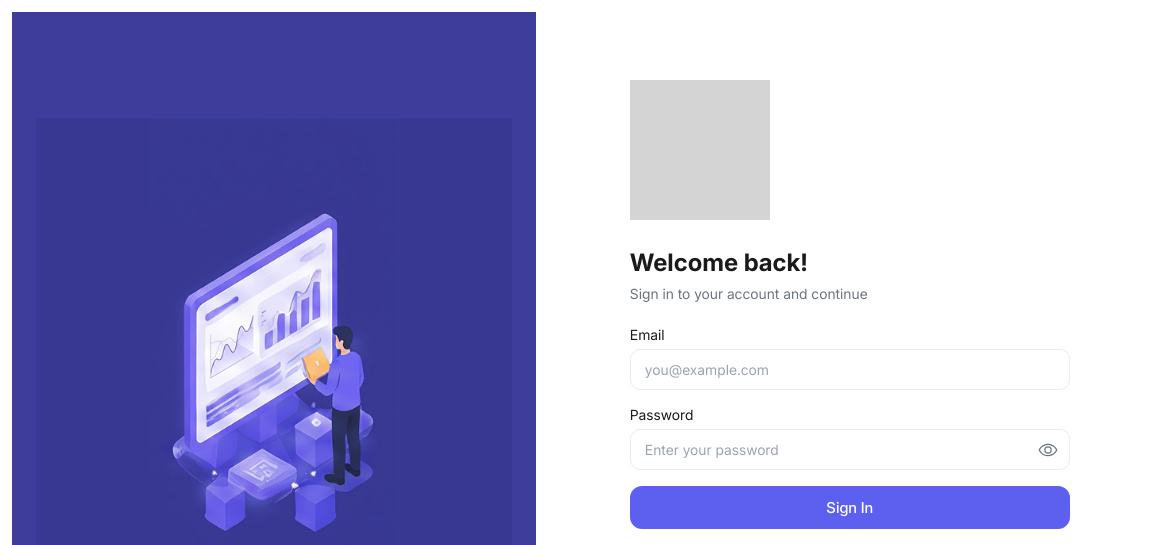
it: signing in stores the session and opens the dashboard
Step 1. Type "zed@example.test" into the field labelled "Email" → (850, 370), box x1=630 y1=349 x2=1070 y2=390
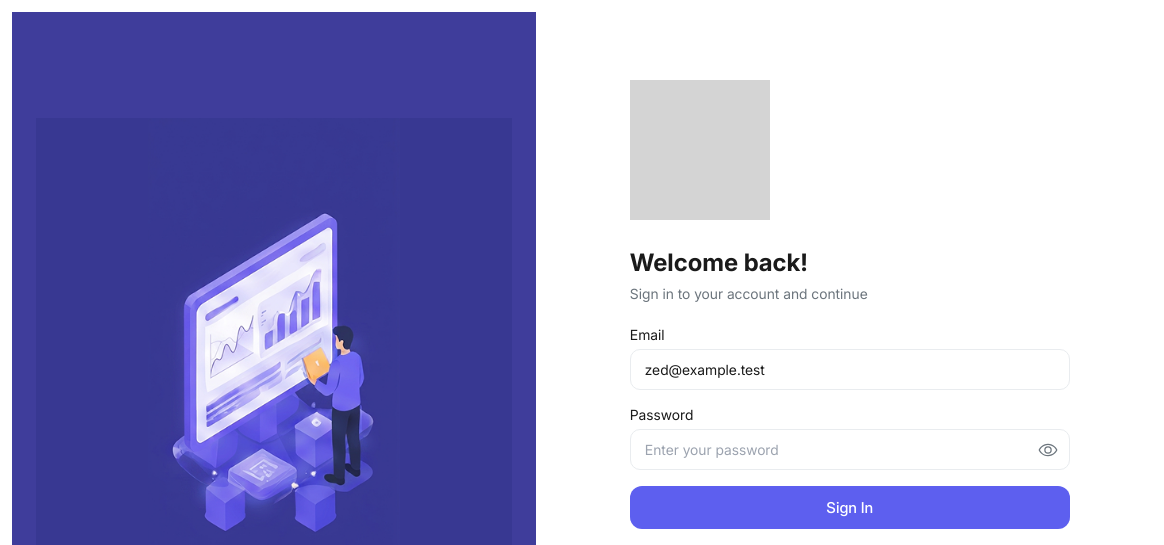
Step 2. Type "Password-123" into the password field labelled "Password" → (850, 450), box x1=630 y1=429 x2=1070 y2=470
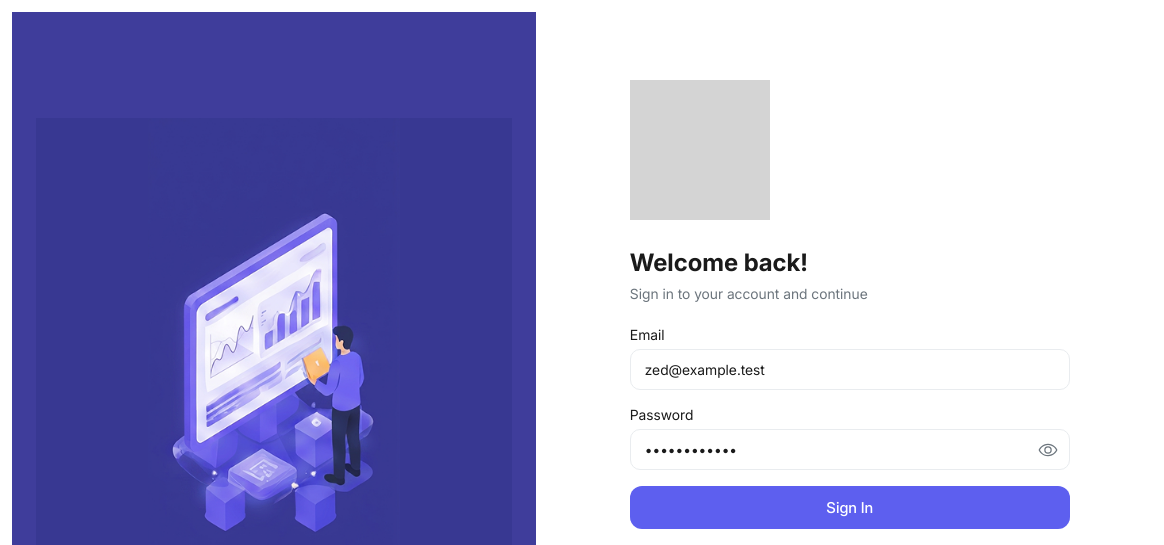
Step 3. Click the button "Sign In" → (850, 508), box x1=630 y1=486 x2=1070 y2=529
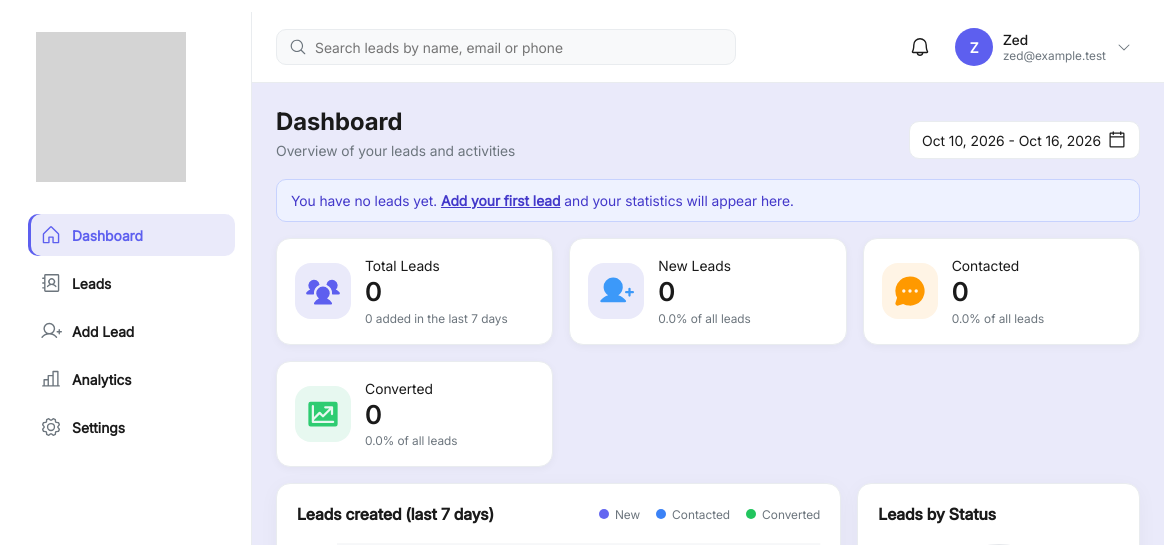
Expected: the heading "Dashboard" is shown, x1=276 y1=107 x2=402 y2=136
